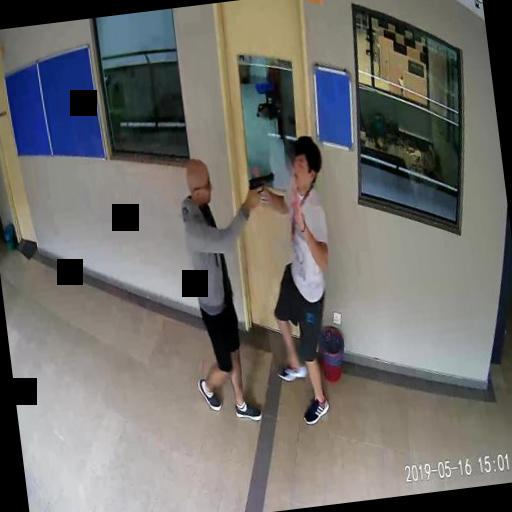Handgun: (247, 172, 276, 206)
